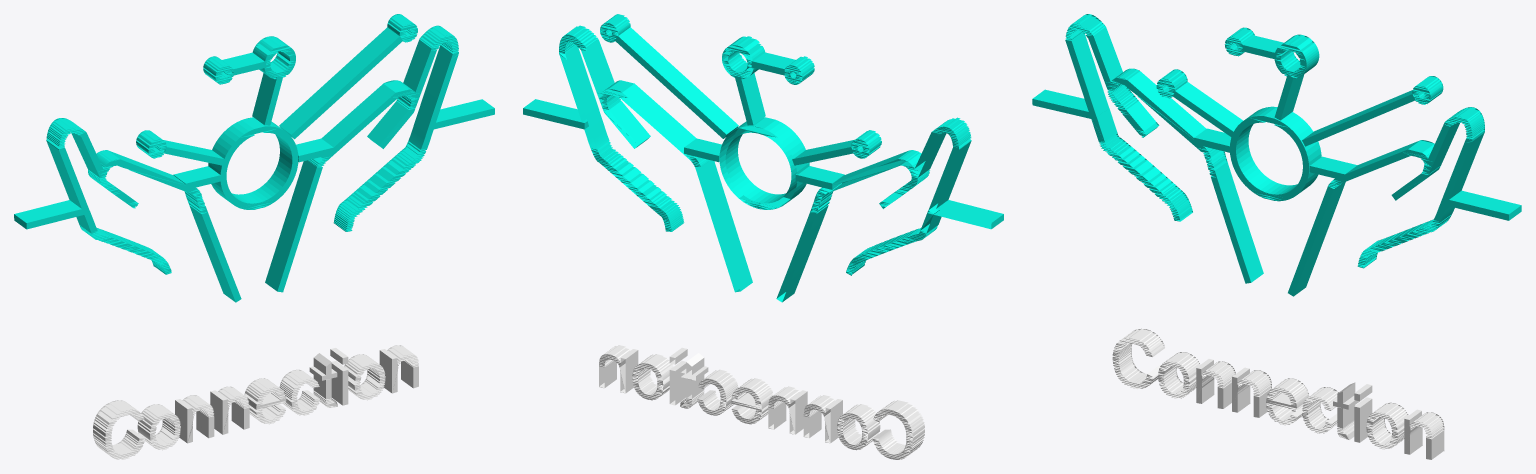
Rendered from asset.glb.
3 renders of one model, left to right at view 1: azimuth 30°, elevation 25°; view 2: azimuth 150°, elevation 25°; view 3: azimuth 330°, elevation 25°, orthographic.
Visible parts, largest first — view 1: Curve.009, Curve.002, Curve.003, Curve, Curve.008, Curve.001, Curve.007, Curve.005, Curve.004, Curve.006; view 2: Curve.009, Curve.002, Curve.003, Curve, Curve.008, Curve.001, Curve.007, Curve.005, Curve.004, Curve.006; view 3: Curve.009, Curve, Curve.002, Curve.003, Curve.008, Curve.001, Curve.007, Curve.006, Curve.004, Curve.005.
Boxes of the visible parts, left/top/right/bottom form: Curve.009: left=93, top=345, right=418, bottom=459; Curve.002: left=265, top=25, right=458, bottom=292; Curve.003: left=163, top=27, right=494, bottom=189; Curve: left=14, top=118, right=241, bottom=302; Curve.008: left=208, top=117, right=298, bottom=209; Curve.001: left=76, top=211, right=171, bottom=274; Curve.007: left=252, top=36, right=295, bottom=79; Curve.005: left=203, top=56, right=233, bottom=84; Curve.004: left=136, top=130, right=166, bottom=158; Curve.006: left=387, top=14, right=417, bottom=42; Curve.009: left=599, top=345, right=924, bottom=459; Curve.002: left=559, top=25, right=752, bottom=292; Curve.003: left=523, top=27, right=854, bottom=189; Curve: left=776, top=117, right=1003, bottom=302; Curve.008: left=719, top=117, right=809, bottom=209; Curve.001: left=846, top=203, right=941, bottom=275; Curve.007: left=722, top=36, right=765, bottom=79; Curve.005: left=784, top=56, right=814, bottom=84; Curve.004: left=851, top=130, right=881, bottom=158; Curve.006: left=600, top=14, right=630, bottom=42; Curve.009: left=1112, top=328, right=1444, bottom=459; Curve: left=1032, top=14, right=1263, bottom=283; Curve.002: left=1288, top=107, right=1484, bottom=296; Curve.003: left=1173, top=36, right=1521, bottom=220; Curve.008: left=1230, top=106, right=1321, bottom=201; Curve.001: left=1091, top=108, right=1192, bottom=221; Curve.007: left=1274, top=34, right=1319, bottom=78; Curve.006: left=1412, top=76, right=1443, bottom=104; Curve.004: left=1156, top=69, right=1187, bottom=98; Curve.005: left=1224, top=27, right=1254, bottom=56.
Size of the model in its own units: 0.1084 by 0.0831 by 0.00497.
